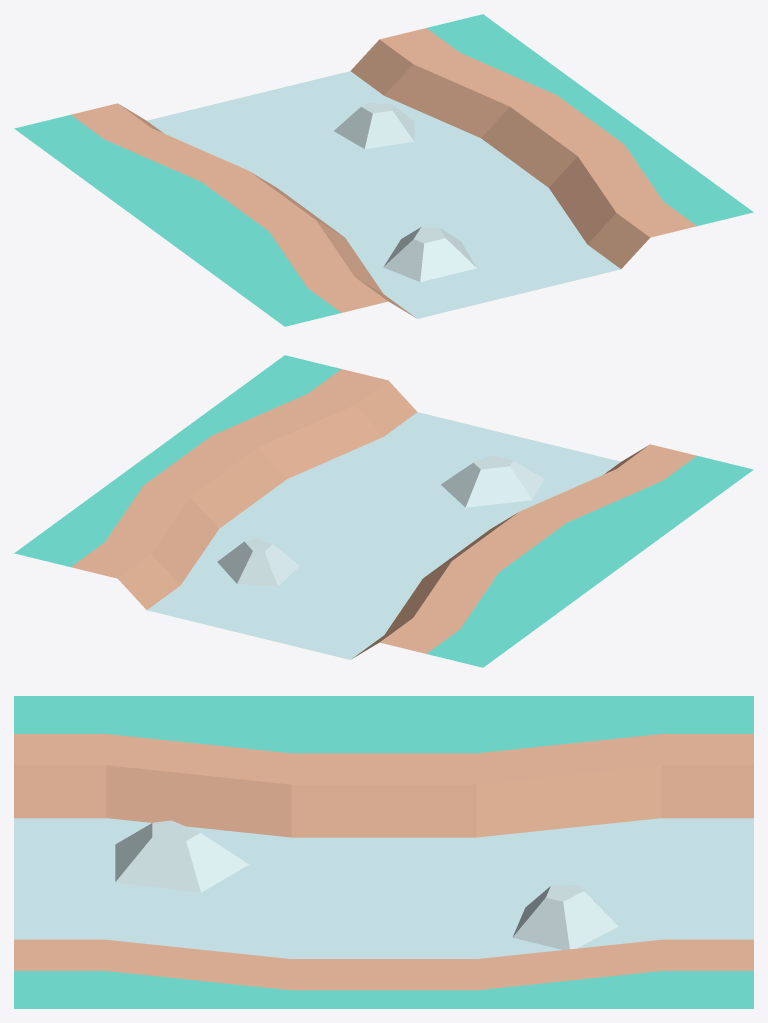
The model's file is ground_riverRocks.gltf.
The picture shows the model from 3 angles, top to bottom: view 1: azimuth 30°, elevation 25°; view 2: azimuth 150°, elevation 25°; view 3: azimuth 270°, elevation 25°; orthographic projection. The views are drawn at different scales.
Parts seen in each view (by area): view 1: ground_riverRocks; view 2: ground_riverRocks; view 3: ground_riverRocks.
Boxes of the visible parts, <box> form: ground_riverRocks: <box>14,14,753,326</box>; ground_riverRocks: <box>14,355,753,667</box>; ground_riverRocks: <box>14,696,753,1008</box>.
Size of the model in its own units: 1 by 0.05 by 1.
